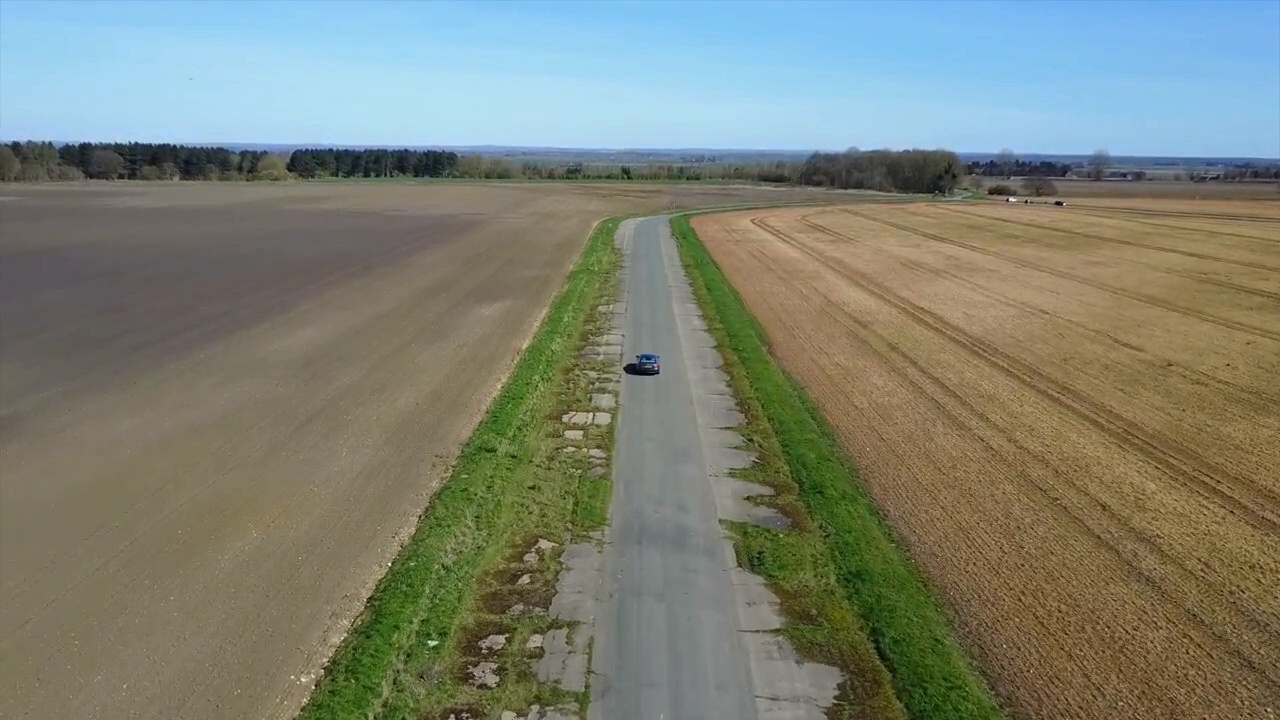araba: (635, 352, 662, 371)
